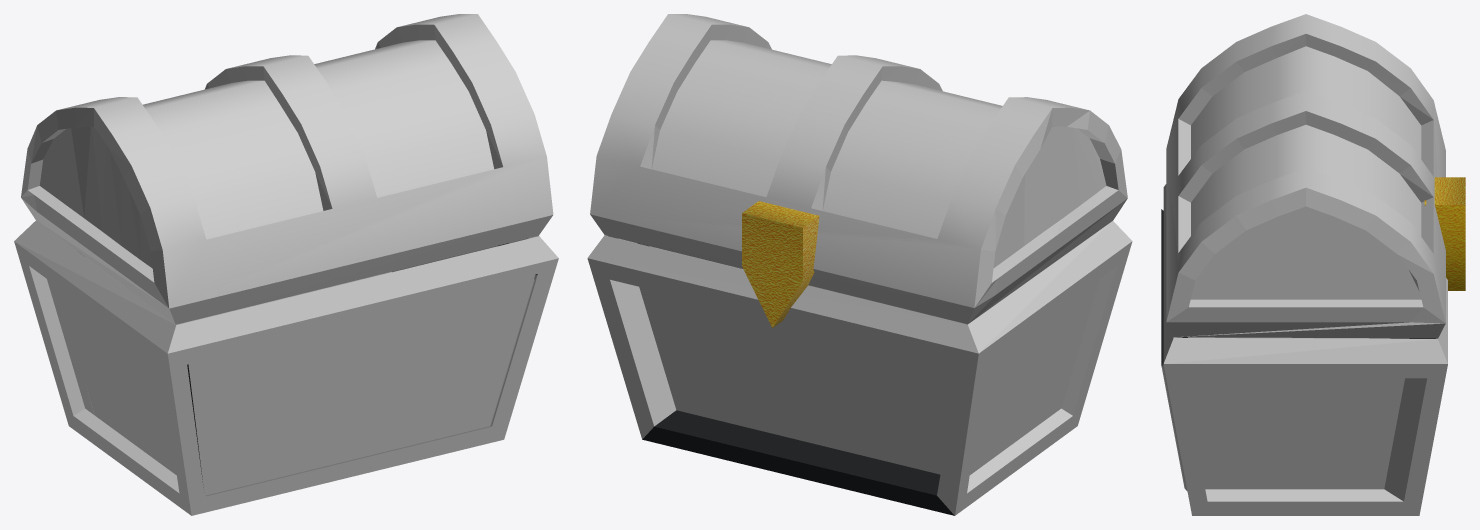
File: cofre.fbx
3 renders of one model, left to right at view 1: azimuth 30°, elevation 25°; view 2: azimuth 150°, elevation 25°; view 3: azimuth 270°, elevation 25°, orthographic. The views are drawn at different scales.
Parts seen in each view (by area): view 1: cofre; view 2: cofre; view 3: cofre.
Boxes of the visible parts, x1,y1,x2,y2 form: cofre: (14, 14, 558, 515); cofre: (587, 14, 1132, 515); cofre: (1161, 14, 1465, 515).
Size of the model in its own units: 1.39 by 1.27 by 1.01.
